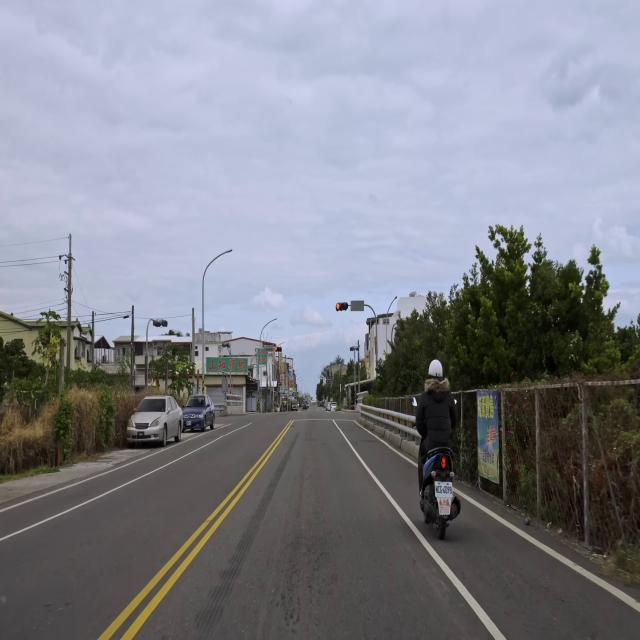red light: (336, 302, 348, 311), (274, 346, 282, 352)
